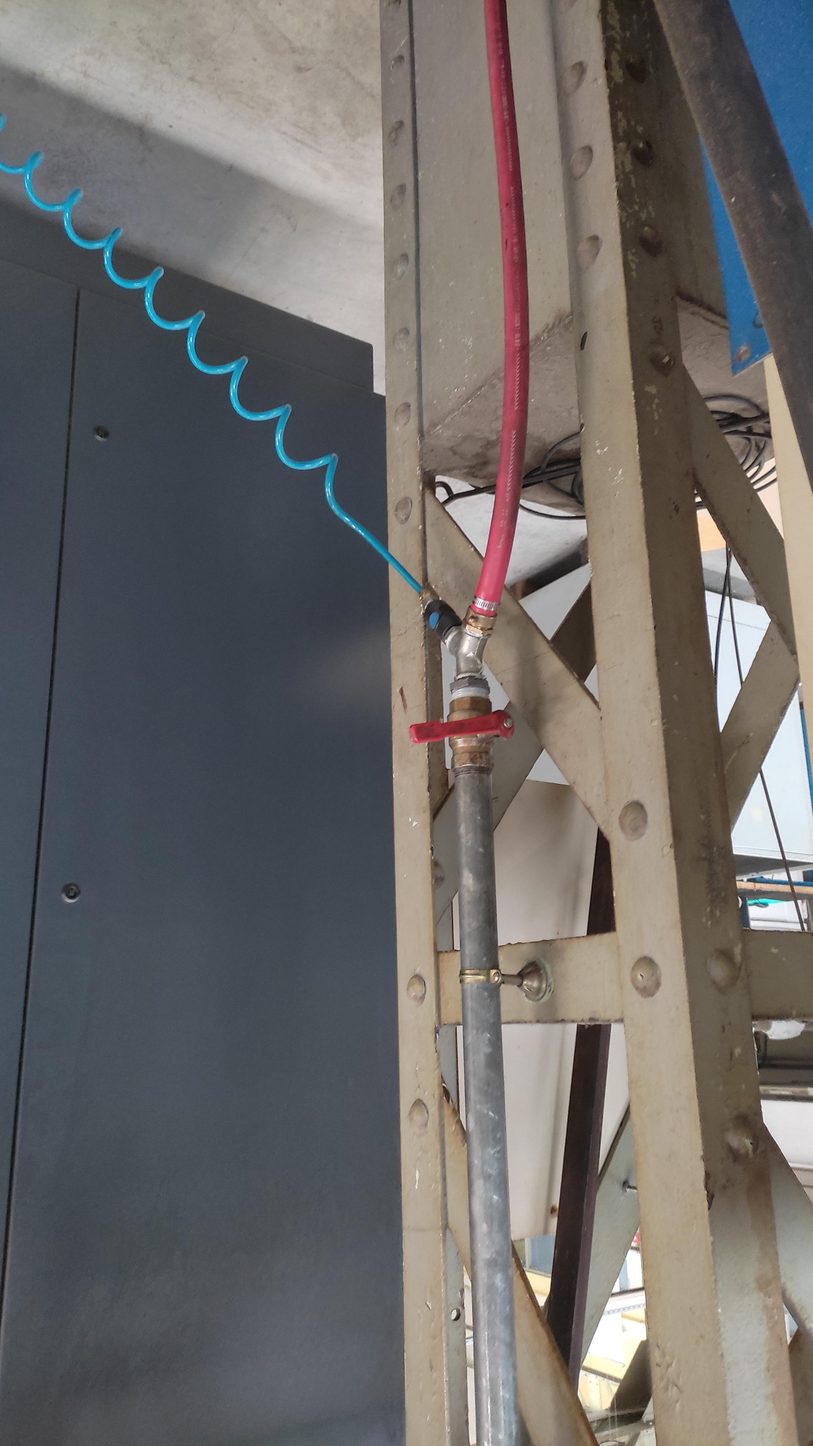closed valve: (408, 693, 519, 770)
